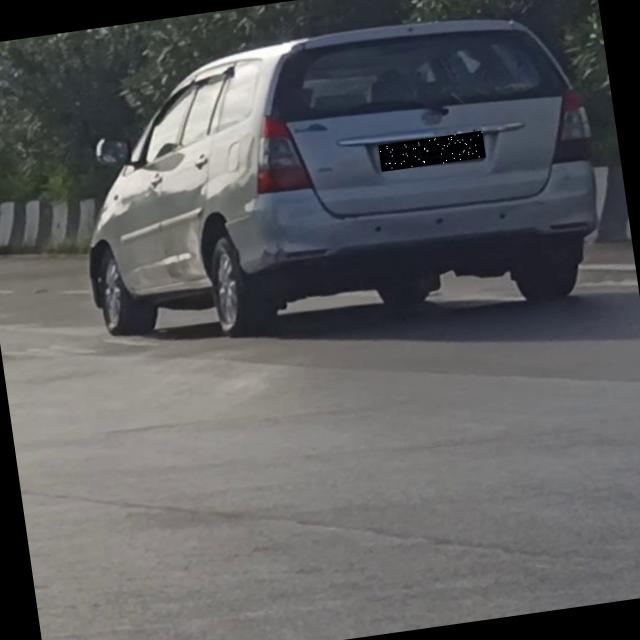Plate: (379, 132, 487, 173)
